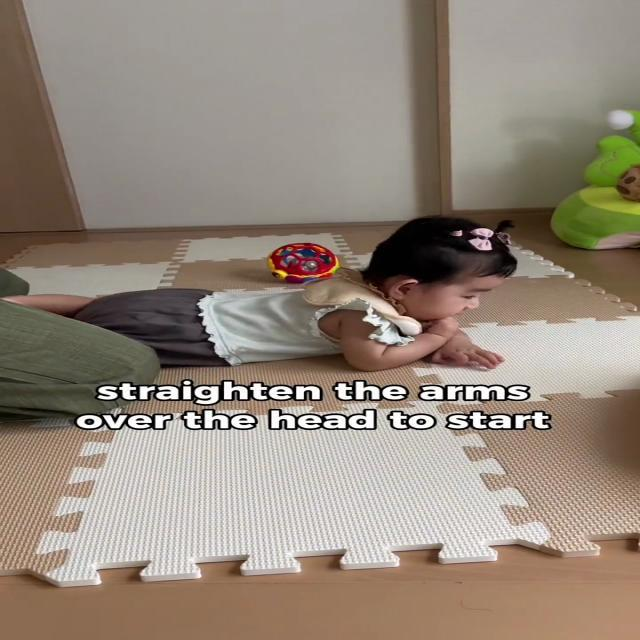baby: (25, 215, 528, 381)
